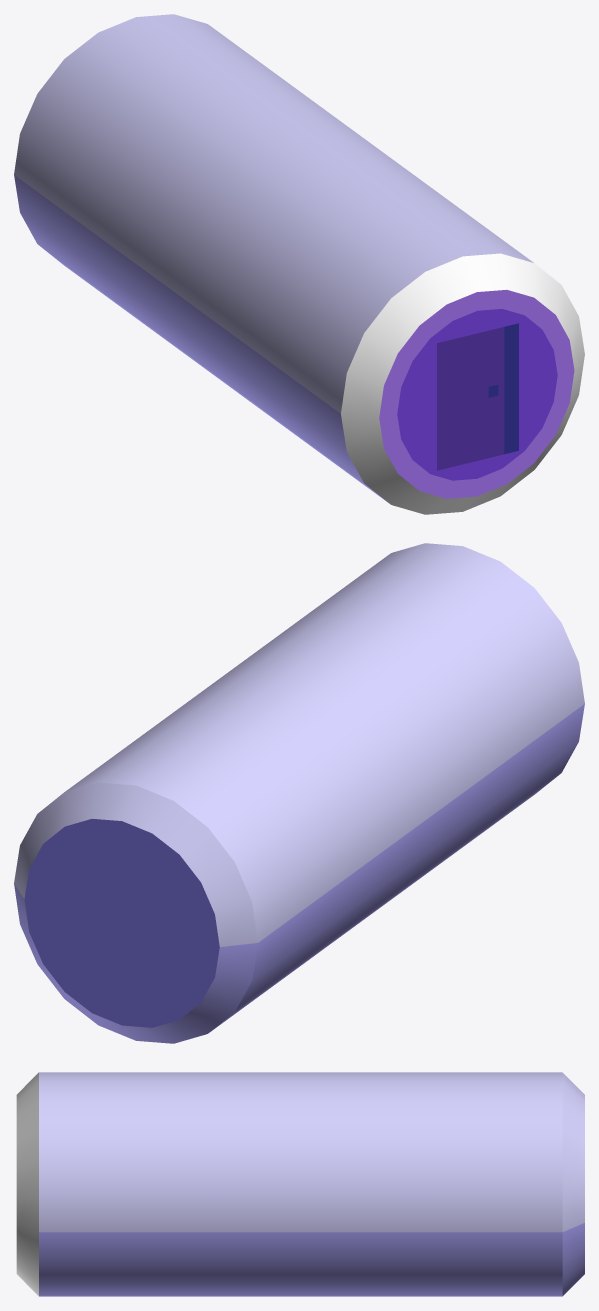
The model's file is Building_017_d.fbx.
3 views of the same model, one above another, from view 1: azimuth 30°, elevation 25°; view 2: azimuth 150°, elevation 25°; view 3: azimuth 270°, elevation 25° (orthographic). The views are drawn at different scales.
Parts seen in each view (by area): view 1: Building_017_d; view 2: Building_017_d; view 3: Building_017_d.
Part boxes in pixels (x1,y1,x2,y2): Building_017_d: [14, 14, 584, 514]; Building_017_d: [14, 543, 584, 1043]; Building_017_d: [16, 1072, 584, 1296].
Size of the model in its own units: 5.7 by 5.7 by 14.41.
